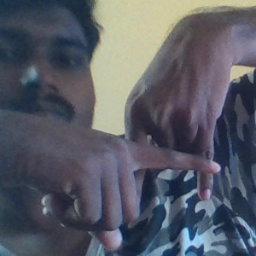H: (96, 88, 228, 213)
